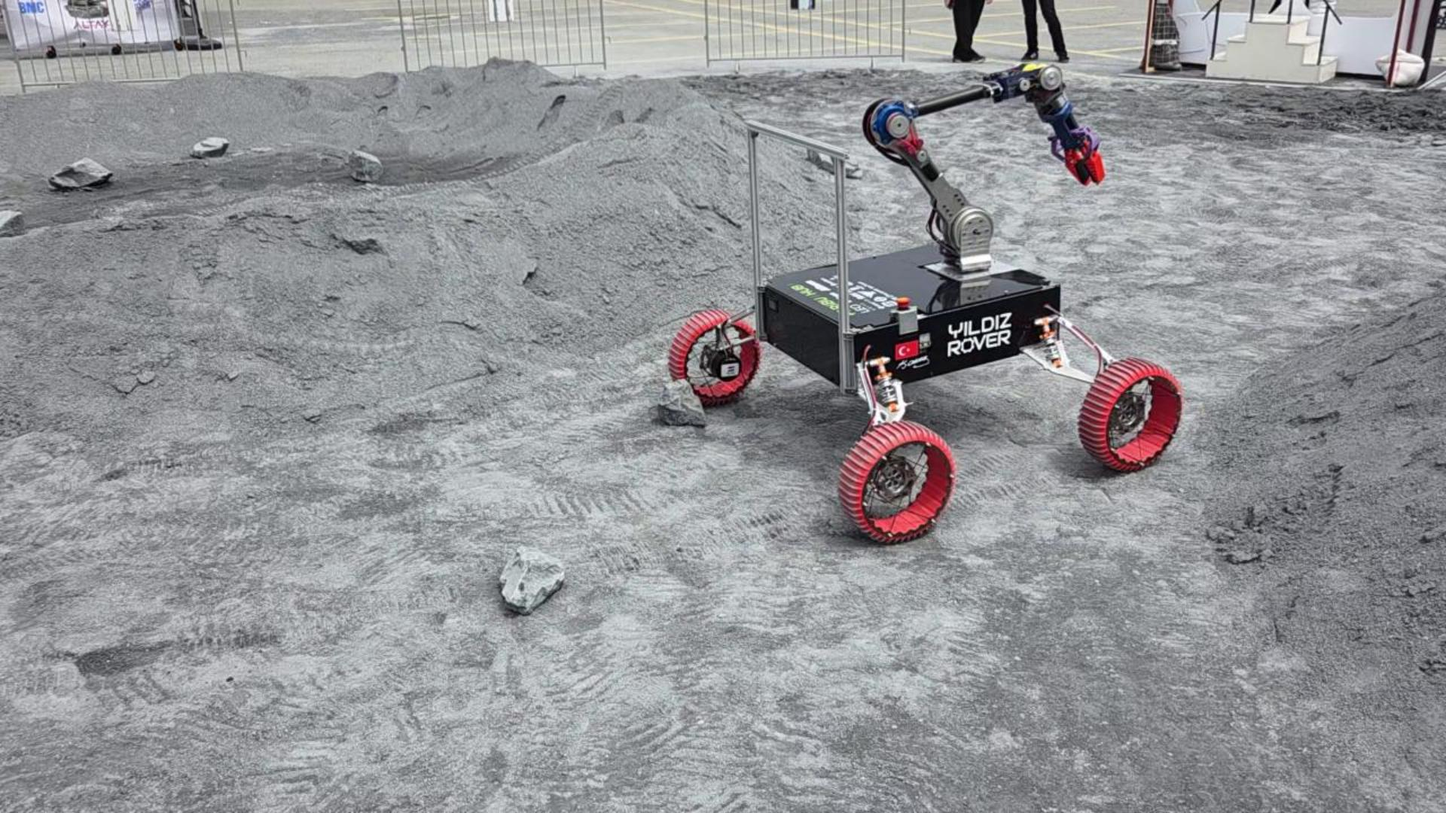rock: (499, 545, 564, 613), (657, 379, 706, 427), (49, 158, 111, 190), (349, 149, 382, 183), (190, 137, 228, 158), (0, 210, 25, 236)
